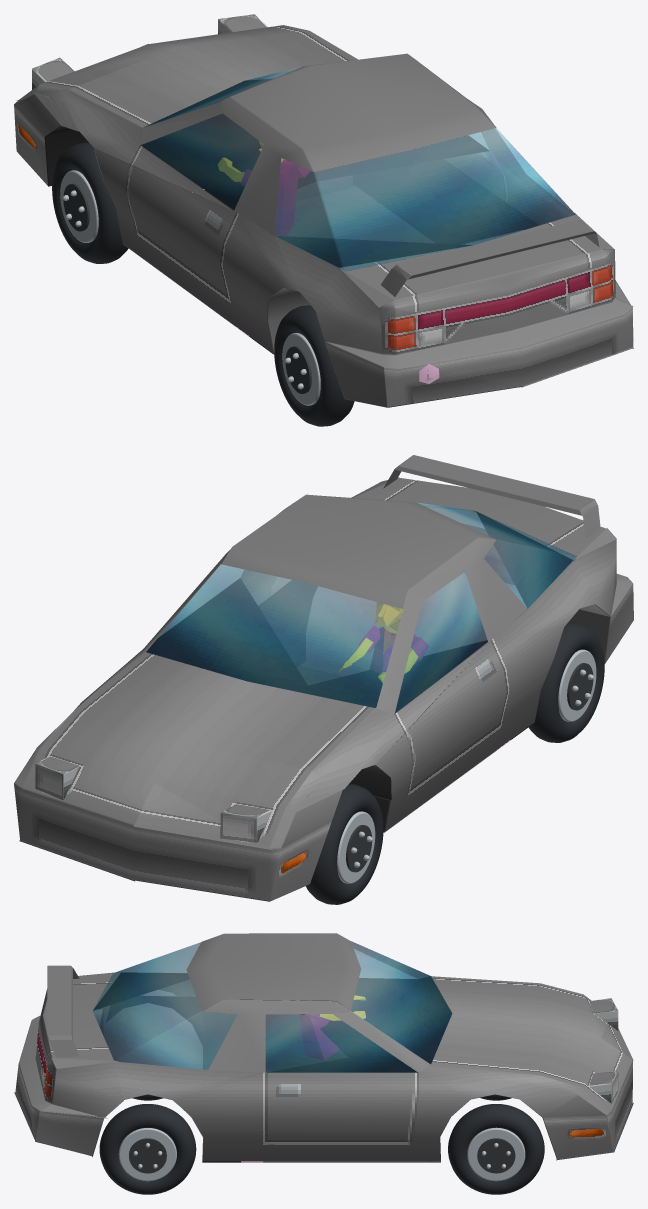
File: car-sportsa.glb
The picture shows the model from 3 angles, top to bottom: view 1: azimuth 30°, elevation 25°; view 2: azimuth 150°, elevation 25°; view 3: azimuth 270°, elevation 25°; orthographic projection. The views are drawn at different scales.
Parts seen in each view (by area): view 1: sportsAShape.001, windShape.002, sportsAShape, Rounded tire.033, Rounded tire.034, Alloy rim.034, Alloy rim.033, Rim recess.066, Rim recess.068; view 2: sportsAShape.001, windShape.002, sportsAShape, Rounded tire.034, Rounded tire.033, Alloy rim.033, Alloy rim.034, Rim recess.066, Rim recess.068; view 3: sportsAShape.001, windShape.002, sportsAShape, Rounded tire.035, Rounded tire.032, Alloy rim.035, Alloy rim.032, Rim recess.065, Rim recess.071.
Boxes of the visible parts, box(x1,y1,x2,y2) form: sportsAShape.001: box(14, 14, 633, 407); windShape.002: box(141, 67, 575, 271); sportsAShape: box(141, 79, 488, 270); Rounded tire.033: box(274, 305, 354, 426); Rounded tire.034: box(52, 142, 128, 263); Alloy rim.034: box(60, 170, 98, 242); Alloy rim.033: box(282, 333, 320, 405); Rim recess.066: box(285, 346, 311, 393); Rim recess.068: box(63, 183, 89, 231); sportsAShape.001: box(14, 455, 633, 901); windShape.002: box(146, 502, 576, 713); sportsAShape: box(146, 511, 576, 712); Rounded tire.034: box(306, 784, 383, 904); Rounded tire.033: box(528, 622, 604, 742); Alloy rim.033: box(558, 649, 596, 721); Alloy rim.034: box(337, 811, 375, 883); Rim recess.066: box(567, 663, 593, 710); Rim recess.068: box(346, 825, 372, 872); sportsAShape.001: box(14, 933, 633, 1162); windShape.002: box(93, 941, 452, 1072); sportsAShape: box(93, 973, 451, 1072); Rounded tire.035: box(448, 1104, 544, 1194); Rounded tire.032: box(99, 1104, 196, 1194); Alloy rim.035: box(467, 1127, 525, 1181); Alloy rim.032: box(118, 1128, 176, 1181); Rim recess.065: box(129, 1138, 166, 1173); Rim recess.071: box(477, 1138, 515, 1173).
Size of the model in its own units: 2.34 by 1.79 by 5.48.
6 materials, 3 textured.
